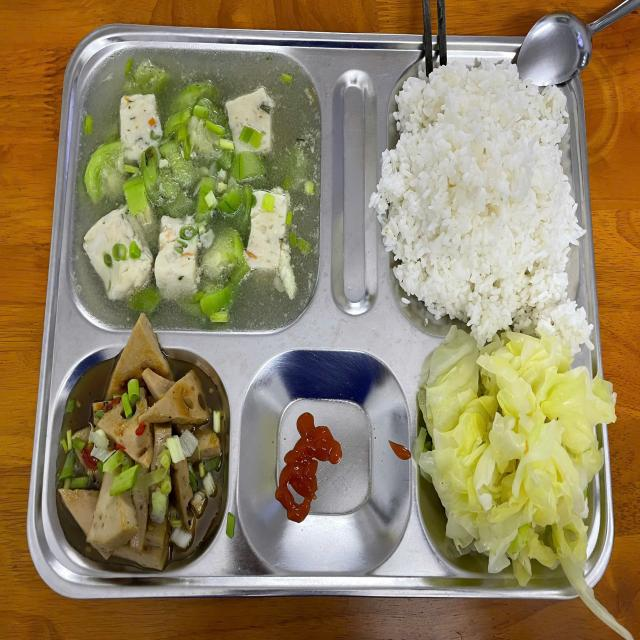cailuoc: (423, 343, 605, 582)
canhmuop: (84, 52, 310, 328)
chalua: (60, 345, 222, 576)
salad: (403, 73, 567, 308)
